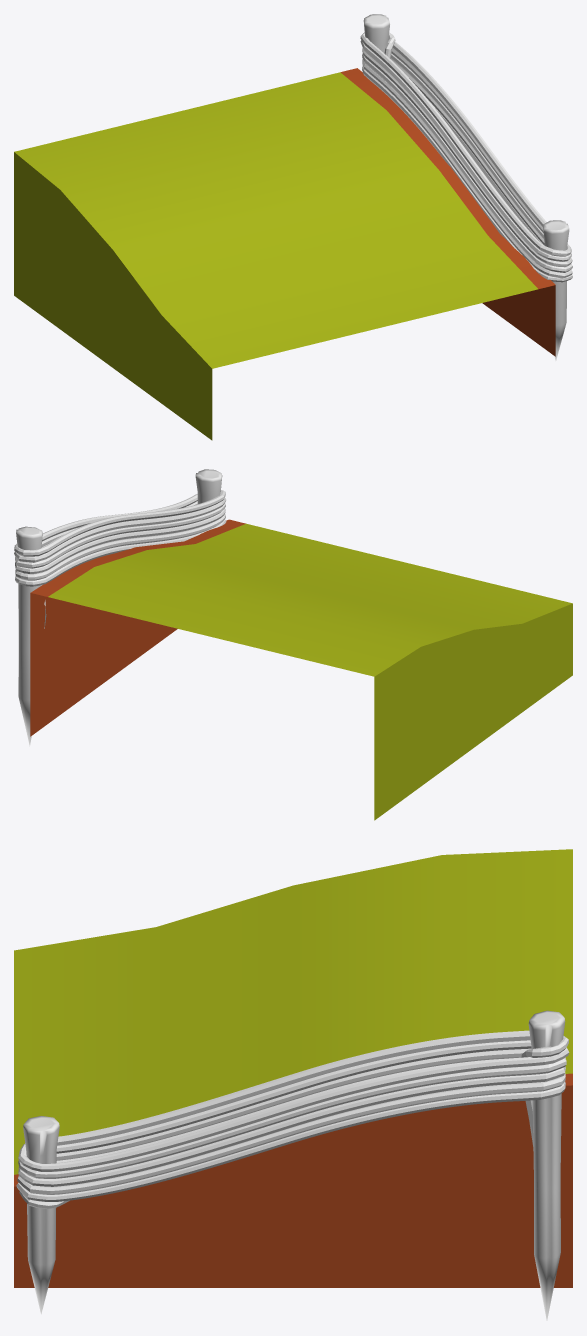
The model's file is SB_Straight_UpH_Begin_End.fbx.
The picture shows the model from 3 angles, top to bottom: view 1: azimuth 30°, elevation 25°; view 2: azimuth 150°, elevation 25°; view 3: azimuth 270°, elevation 25°; orthographic projection. The views are drawn at different scales.
Parts seen in each view (by area): view 1: Cube.002; view 2: Cube.002; view 3: Cube.002.
Boxes of the visible parts, x1,y1,x2,y2 form: Cube.002: (14,14,572,440); Cube.002: (14,469,572,820); Cube.002: (14,849,572,1320).
Bounding box in the file's own units: 215 × 120 × 200.
